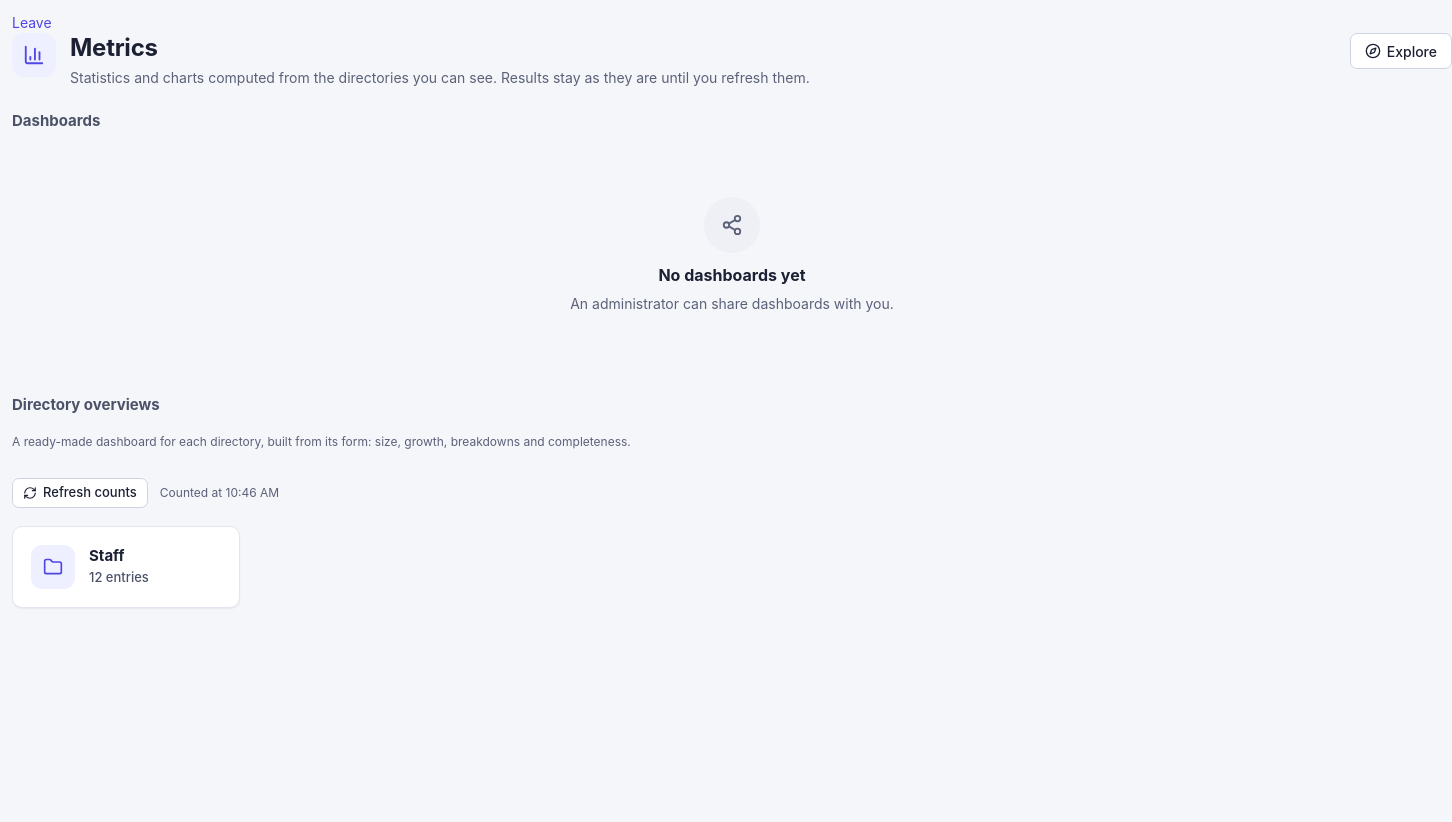
Scenario: the metrics page › recomputes when the user asks for it
The width and height of the screenshot is (1452, 822).
Check: the text "12 entries" is shown, box [89,568,149,584]
Check: the text "Counted at 10:46 AM" is shown, box [160,484,279,502]
Click the button "Refresh counts".
click(80, 493)  # box [12,478,148,508]
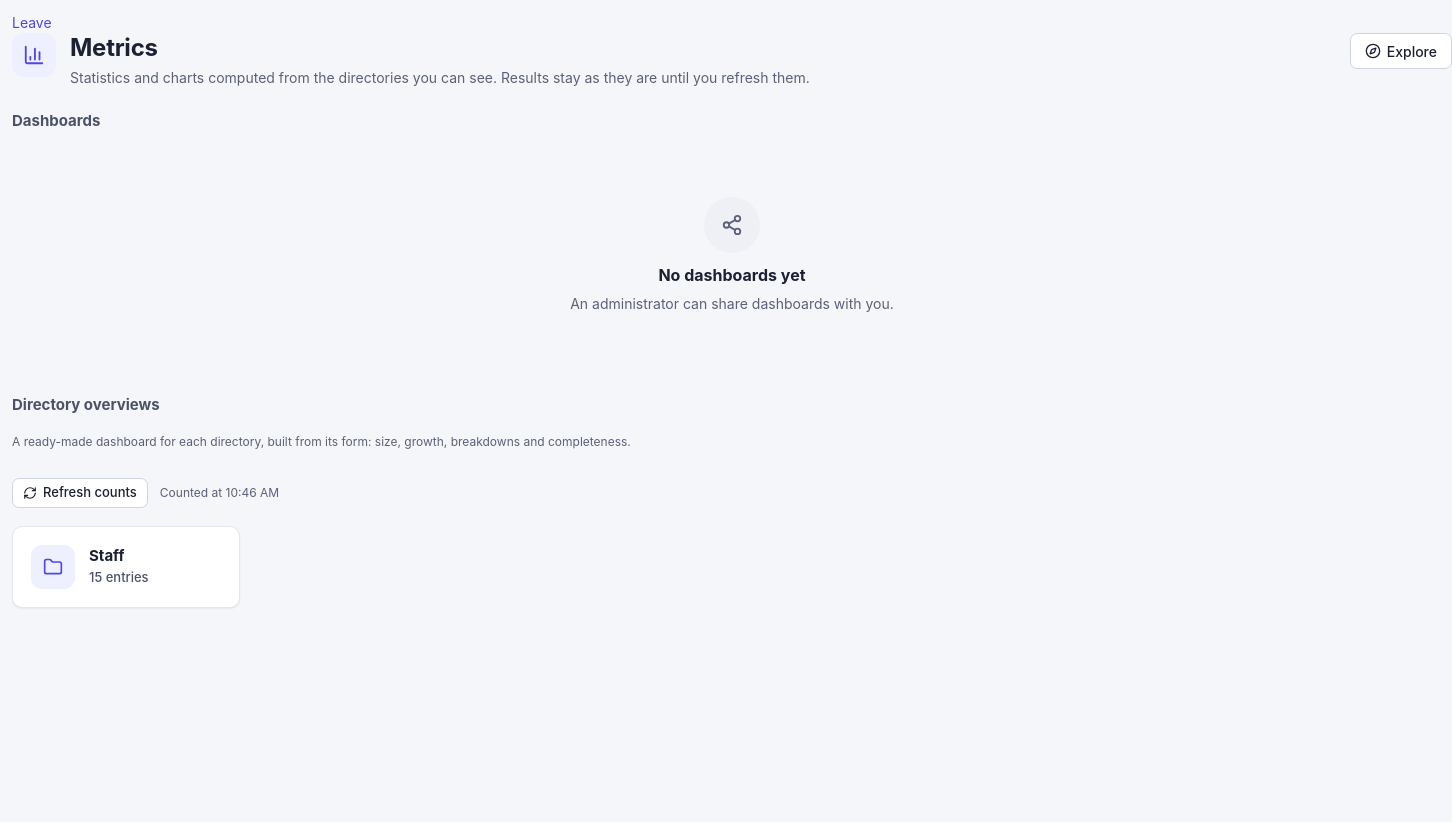
Check: the text "15 entries" is shown, box [89,568,149,584]
